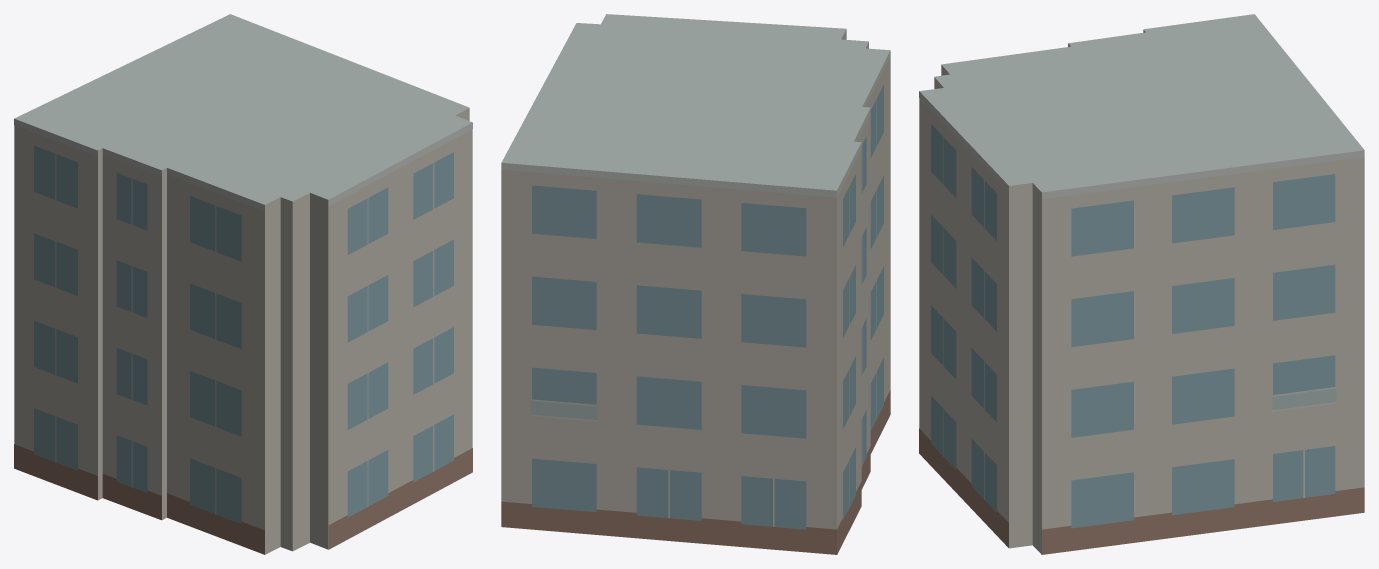
File: survey-upis-32670363.glb
3 renders of one model, left to right at view 1: azimuth 30°, elevation 25°; view 2: azimuth 150°, elevation 25°; view 3: azimuth 270°, elevation 25°, orthographic. The views are drawn at different scales.
Visible parts, largest first — view 1: survey-upis-32670363.tmp; view 2: survey-upis-32670363.tmp; view 3: survey-upis-32670363.tmp.
Part boxes in pixels (left/top/right/bottom): survey-upis-32670363.tmp: left=14, top=14, right=472, bottom=554; survey-upis-32670363.tmp: left=501, top=14, right=890, bottom=554; survey-upis-32670363.tmp: left=919, top=14, right=1364, bottom=554.
Size of the model in its own units: 13.73 by 13 by 14.49.
